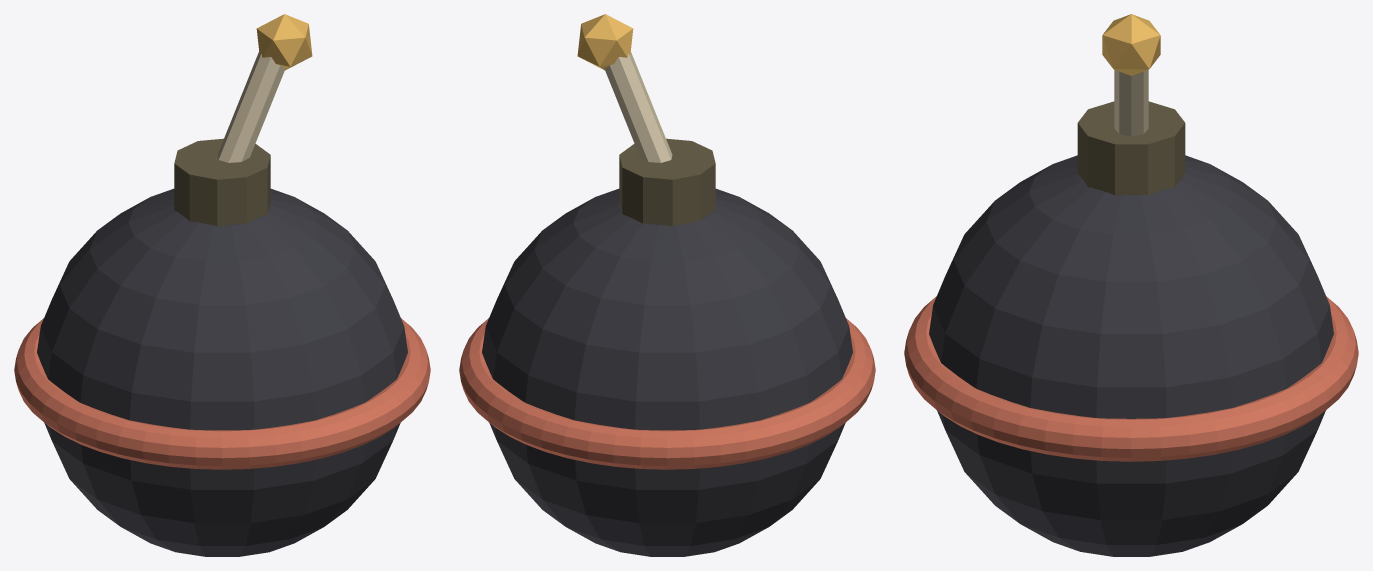
File: Bomb_Orb.obj
The picture shows the model from 3 angles, left to right: view 1: azimuth 30°, elevation 25°; view 2: azimuth 150°, elevation 25°; view 3: azimuth 270°, elevation 25°; orthographic projection. The views are drawn at different scales.
Visible parts, largest first — view 1: Bomb_Orb; view 2: Bomb_Orb; view 3: Bomb_Orb.
Part boxes in pixels (x1,y1,x2,y2): Bomb_Orb: (14, 14, 430, 556); Bomb_Orb: (459, 14, 875, 556); Bomb_Orb: (904, 14, 1358, 556).
Bounding box in the file's own units: 0.93 × 1.26 × 0.93.
1 material, 1 textured.
